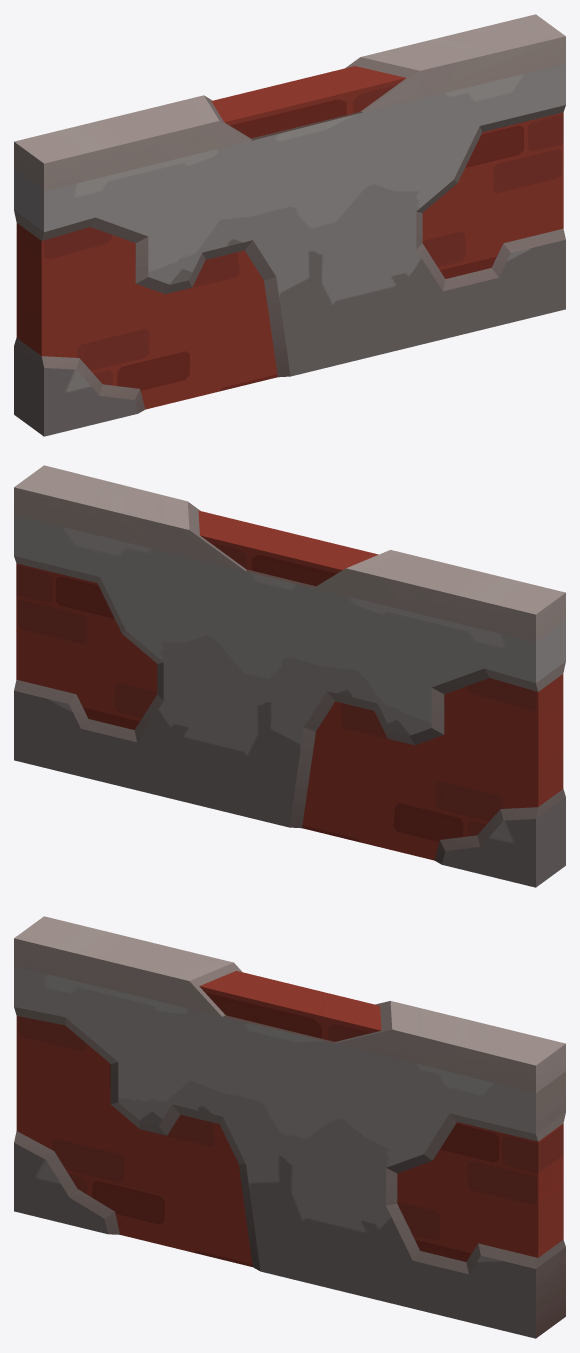
File: SM_DamagedWall_02.fbx
3 renders of one model, top to bottom at view 1: azimuth 30°, elevation 25°; view 2: azimuth 150°, elevation 25°; view 3: azimuth 330°, elevation 25°, orthographic.
Visible parts, largest first — view 1: SM_DamagedWall_02; view 2: SM_DamagedWall_02; view 3: SM_DamagedWall_02.
Part boxes in pixels (x1,y1,x2,y2): SM_DamagedWall_02: (14,14,565,436); SM_DamagedWall_02: (14,465,565,887); SM_DamagedWall_02: (14,916,565,1338).
Bounding box in the file's own units: 2 × 1 × 0.2.
